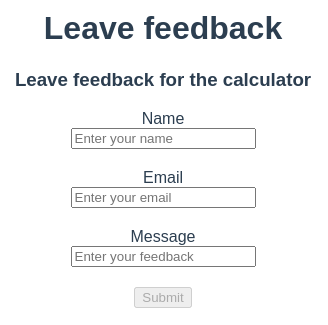
Scenario: SimpleForm › Submit button enabled
Step 1. Type "testName" into the field with placeholder "Enter your name" → (163, 138), box x1=70 y1=128 x2=256 y2=149
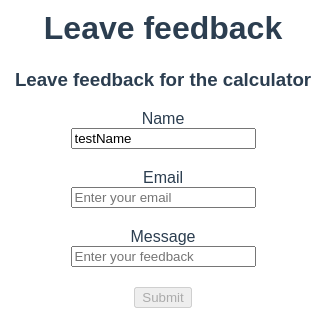
Step 2. Type "validEmail@valid.com" into the field with placeholder "Enter your email" → (163, 197), box x1=70 y1=187 x2=256 y2=208
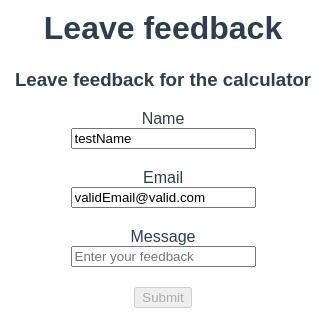
Step 3. Type "ValidMessageValidMessageValidMessage" into the field with placeholder "Enter your feedback" → (163, 256), box x1=70 y1=246 x2=256 y2=267
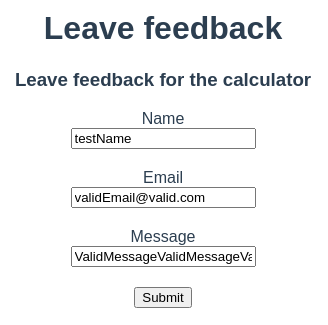
Result: the submit button is enabled at x1=134 y1=287 x2=192 y2=308
